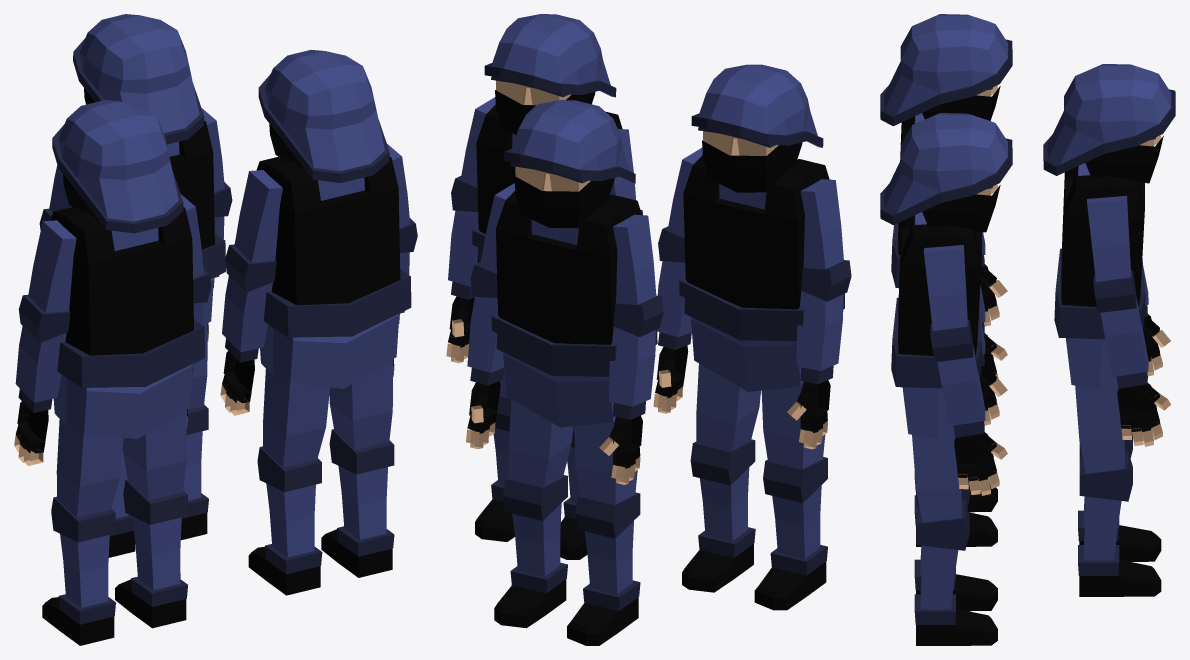
File: unit_infantry.glb
3 renders of one model, left to right at view 1: azimuth 30°, elevation 25°; view 2: azimuth 150°, elevation 25°; view 3: azimuth 270°, elevation 25°, orthographic. The views are drawn at different scales.
Visible parts, largest first — view 1: Cube.016, Cube.023, Cube.026, Cube.008, Cube.028, Cube.002, Cube.017, Cube.022, Cube.012, Cube.025, Cube.014, Cube.027 (+5 smaller); view 2: Cube.006, Cube.016, Cube.005, Cube.017, Cube.008, Cube.010, Cube.002, Cube.028, Cube.012, Cube.022, Cube.009, Cube.014 (+10 smaller); view 3: Cube.006, Cube.023, Cube.022, Cube.005, Cube.028, Cube.002, Cube.012, Cube.026, Cube.010, Cube.025, Cube.009, Cube.027 (+7 smaller).
Part boxes in pixels (left/top/right/bottom): Cube.016: left=42, top=409, right=187, bottom=645; Cube.023: left=248, top=359, right=394, bottom=595; Cube.026: left=256, top=156, right=400, bottom=305; Cube.008: left=50, top=206, right=193, bottom=355; Cube.028: left=258, top=50, right=389, bottom=182; Cube.002: left=52, top=100, right=183, bottom=233; Cube.017: left=14, top=194, right=211, bottom=465; Cube.022: left=220, top=144, right=417, bottom=415; Cube.012: left=73, top=14, right=204, bottom=144; Cube.025: left=260, top=177, right=399, bottom=388; Cube.014: left=53, top=228, right=192, bottom=439; Cube.027: left=263, top=269, right=411, bottom=337; Cube.006: left=494, top=399, right=640, bottom=645; Cube.016: left=682, top=363, right=827, bottom=610; Cube.005: left=466, top=183, right=663, bottom=484; Cube.017: left=653, top=148, right=851, bottom=449; Cube.008: left=683, top=155, right=829, bottom=309; Cube.010: left=496, top=190, right=641, bottom=344; Cube.002: left=691, top=64, right=823, bottom=147; Cube.028: left=484, top=14, right=616, bottom=97; Cube.012: left=504, top=100, right=635, bottom=183; Cube.022: left=446, top=97, right=642, bottom=362; Cube.009: left=503, top=219, right=615, bottom=427; Cube.014: left=691, top=184, right=803, bottom=391; Cube.006: left=1075, top=385, right=1161, bottom=596; Cube.023: left=912, top=434, right=997, bottom=645; Cube.022: left=923, top=245, right=1007, bottom=495; Cube.005: left=1087, top=195, right=1170, bottom=446; Cube.028: left=880, top=113, right=1012, bottom=225; Cube.002: left=880, top=14, right=1012, bottom=126; Cube.012: left=1043, top=64, right=1175, bottom=175; Cube.026: left=898, top=215, right=981, bottom=356; Cube.010: left=1061, top=166, right=1144, bottom=306; Cube.025: left=902, top=212, right=954, bottom=438; Cube.009: left=1066, top=163, right=1118, bottom=389; Cube.027: left=891, top=297, right=982, bottom=388.
Bounding box in the file's own units: 0.369 × 0.4717 × 0.2532.
